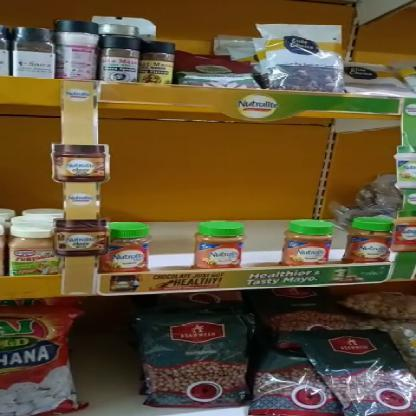Nutralite TANDOORI MAYO 300g-275g-25g-: (195, 219, 244, 266), (104, 222, 147, 274), (348, 219, 396, 264), (284, 219, 328, 266)
